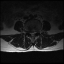CCS_normal: (32, 29, 33, 38)
LFS_stenosis: (35, 29, 37, 34)
LLS_normal: (33, 29, 35, 36)
RFS_normal: (28, 28, 30, 35)
RLS_normal: (30, 29, 32, 37)
